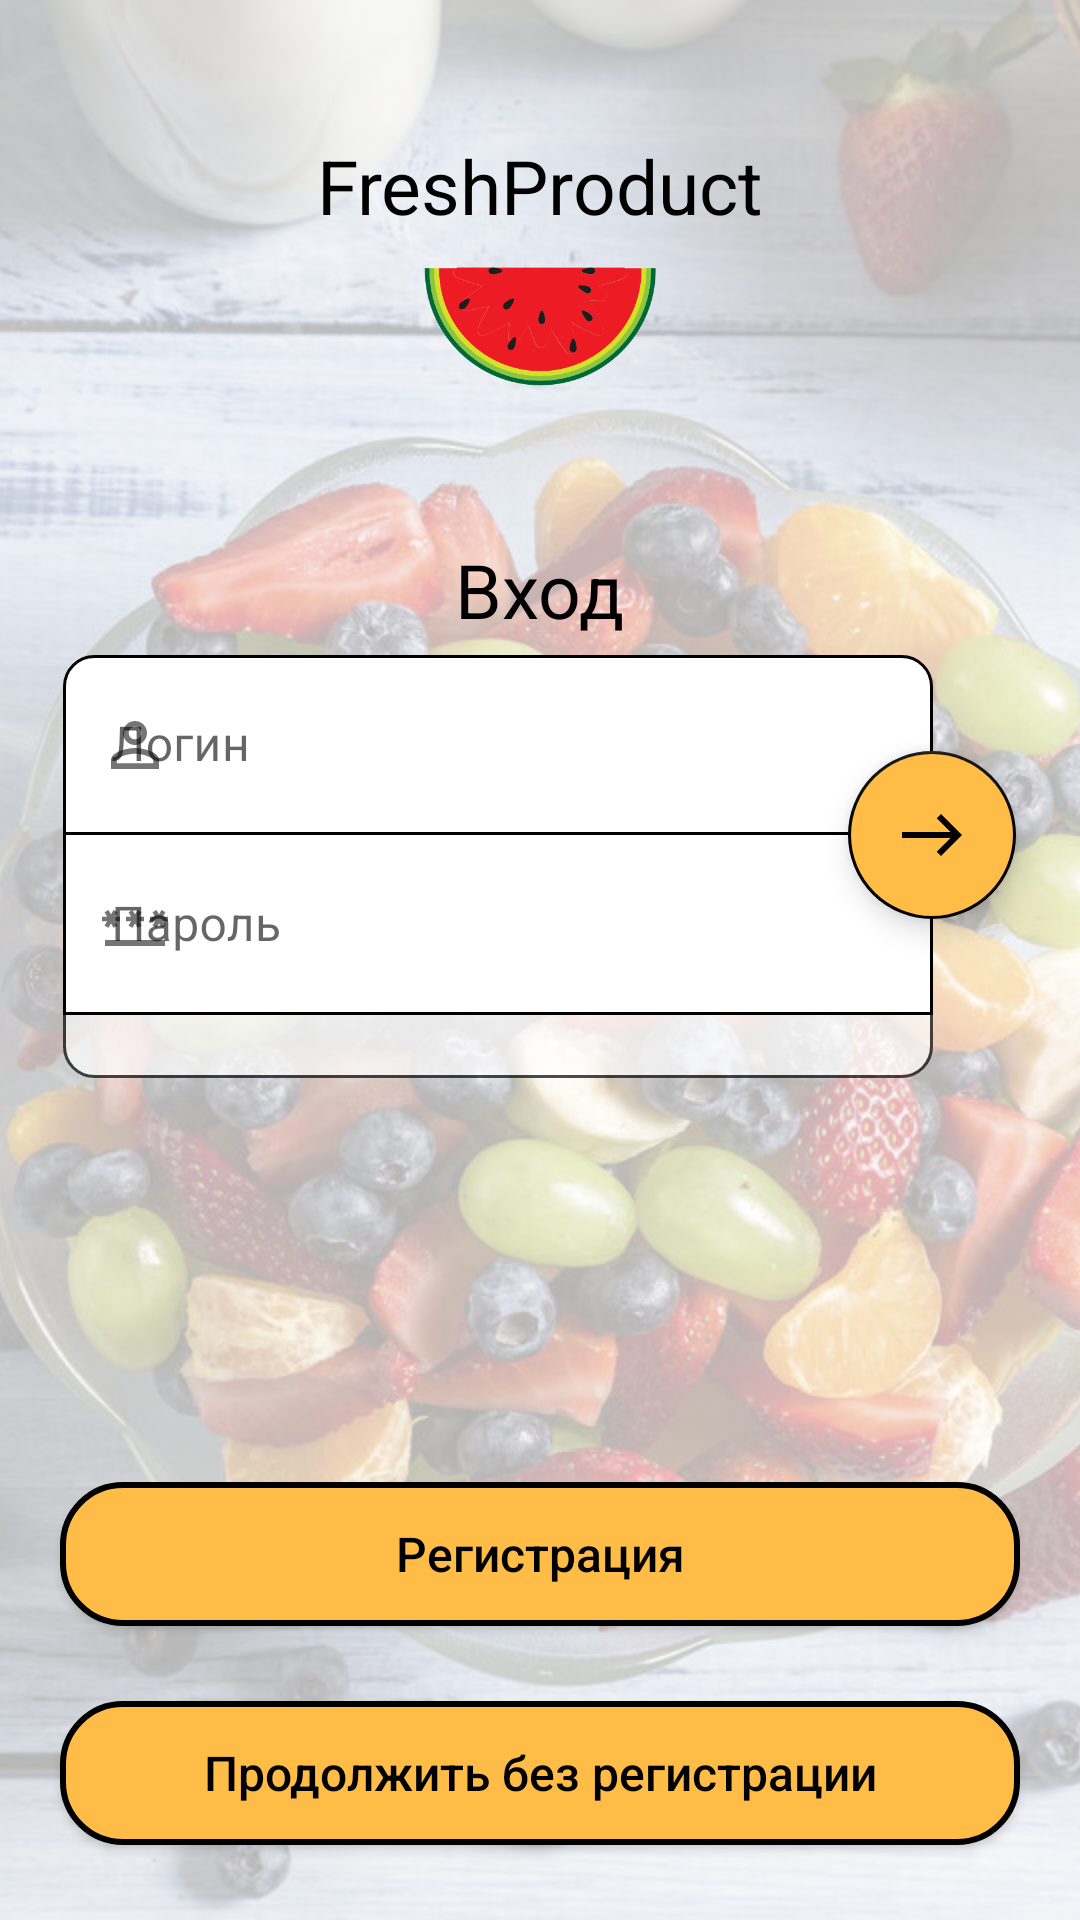

Icons on this 1080*1920 Android screen, each with the point to tap as (x=x, y=y):
arbuz: (x=540, y=326)
next: (x=932, y=835)
